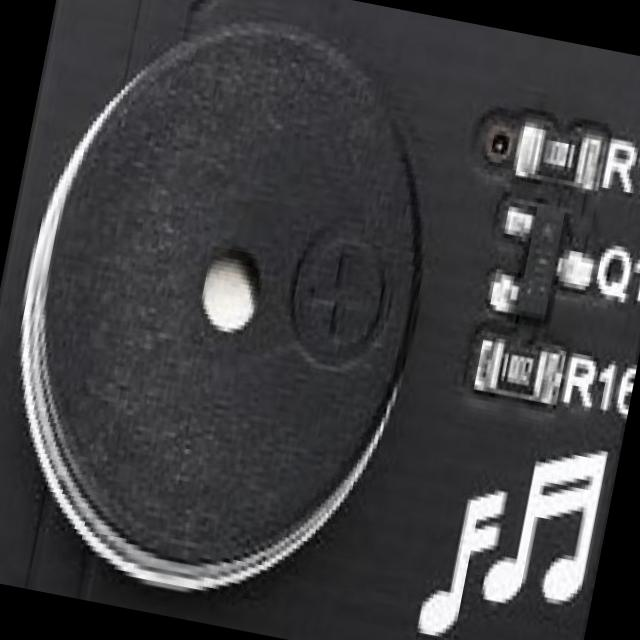resistor: (484, 340, 556, 409), (522, 128, 588, 186)
transistor: (500, 201, 582, 321)
